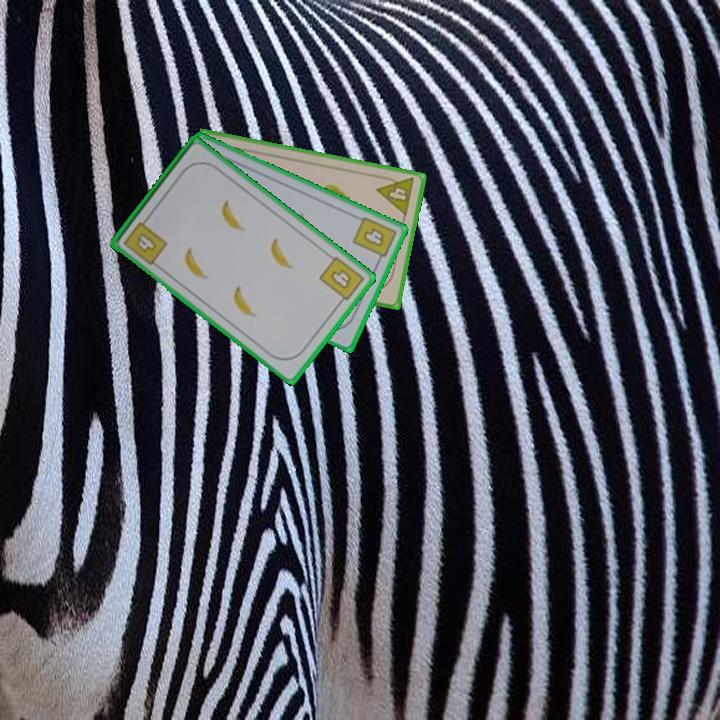4b: (315, 253, 367, 308), (120, 213, 171, 268), (349, 213, 399, 266)
4p: (373, 172, 418, 219)
